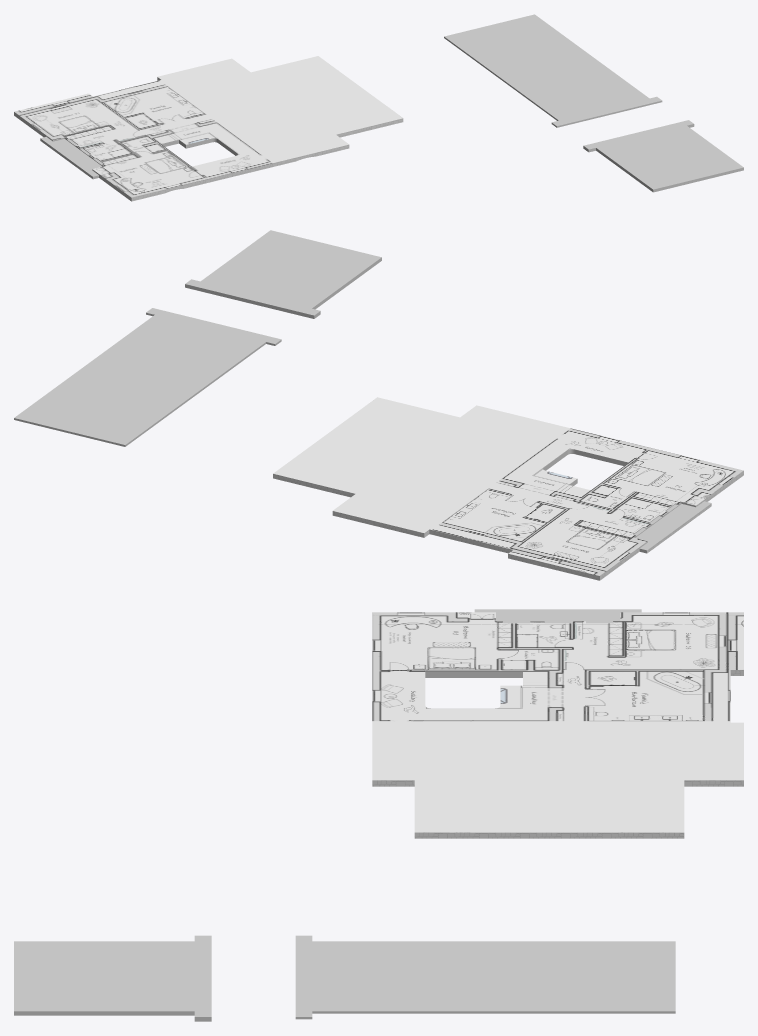
Rendered from RB05__Storey__FirstFloor__ProposedFloors__MeshModel__.glb.
The picture shows the model from 3 angles, top to bottom: view 1: azimuth 30°, elevation 25°; view 2: azimuth 150°, elevation 25°; view 3: azimuth 270°, elevation 25°; orthographic projection. The views are drawn at different scales.
Visible parts, largest first — view 1: 22__ProposedBuilding__Floors::MAT000E__RB05__FirstFloorPlan_, 22__ProposedBuilding__Floors::Default, 22__ProposedBuilding__Floors::MAT000E__Masonry__StoneworkPat; view 2: 22__ProposedBuilding__Floors::MAT000E__RB05__FirstFloorPlan_, 22__ProposedBuilding__Floors::Default, 22__ProposedBuilding__Floors::MAT000E__Masonry__StoneworkPat; view 3: 22__ProposedBuilding__Floors::MAT000E__RB05__FirstFloorPlan_, 22__ProposedBuilding__Floors::Default, 22__ProposedBuilding__Floors::MAT000E__Masonry__StoneworkPat.
Part boxes in pixels (<box>): 22__ProposedBuilding__Floors::MAT000E__RB05__FirstFloorPlan_: <box>14,56,402,197</box>; 22__ProposedBuilding__Floors::Default: <box>40,14,743,192</box>; 22__ProposedBuilding__Floors::MAT000E__Masonry__StoneworkPat: <box>14,77,403,201</box>; 22__ProposedBuilding__Floors::MAT000E__RB05__FirstFloorPlan_: <box>273,397,743,575</box>; 22__ProposedBuilding__Floors::Default: <box>14,230,711,553</box>; 22__ProposedBuilding__Floors::MAT000E__Masonry__StoneworkPat: <box>273,471,743,580</box>; 22__ProposedBuilding__Floors::MAT000E__RB05__FirstFloorPlan_: <box>372,612,743,832</box>; 22__ProposedBuilding__Floors::Default: <box>14,609,675,1021</box>; 22__ProposedBuilding__Floors::MAT000E__Masonry__StoneworkPat: <box>372,670,743,838</box>.
Bounding box in the file's own units: 41.82 × 0.9 × 32.6.
Materials: 3 (2 with a texture image).
